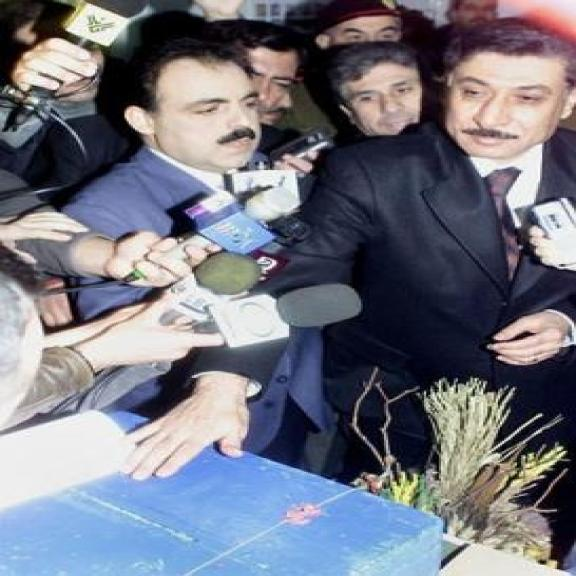face: (120, 56, 262, 175), (444, 52, 576, 161), (333, 70, 426, 136), (242, 39, 298, 116)
